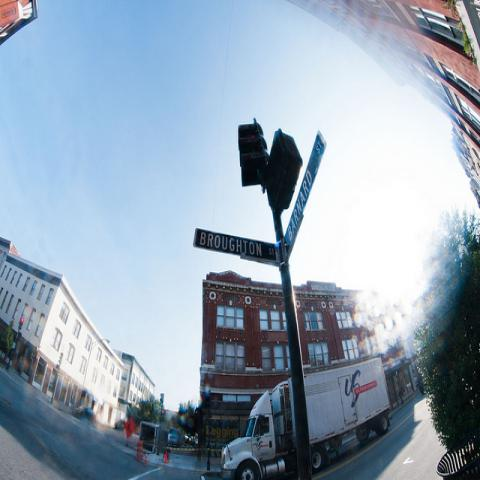truck: (219, 356, 391, 475), (139, 420, 168, 452)
